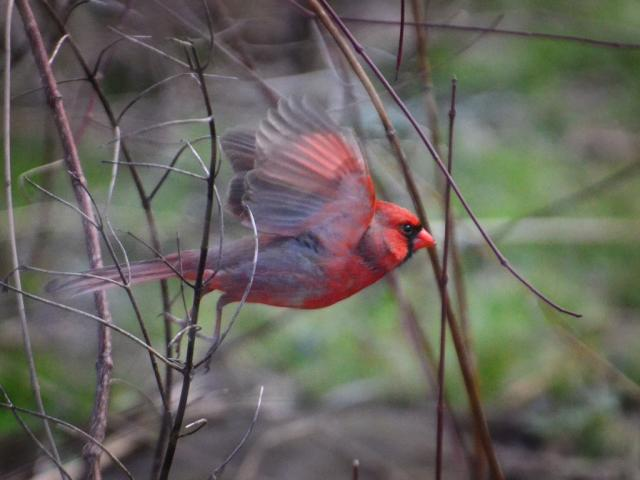Bird: (46, 93, 438, 310)
